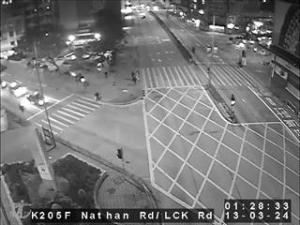person: (95, 92, 101, 102), (133, 77, 137, 83), (132, 71, 134, 77)
vehicle: (26, 90, 46, 105), (10, 82, 26, 98)
